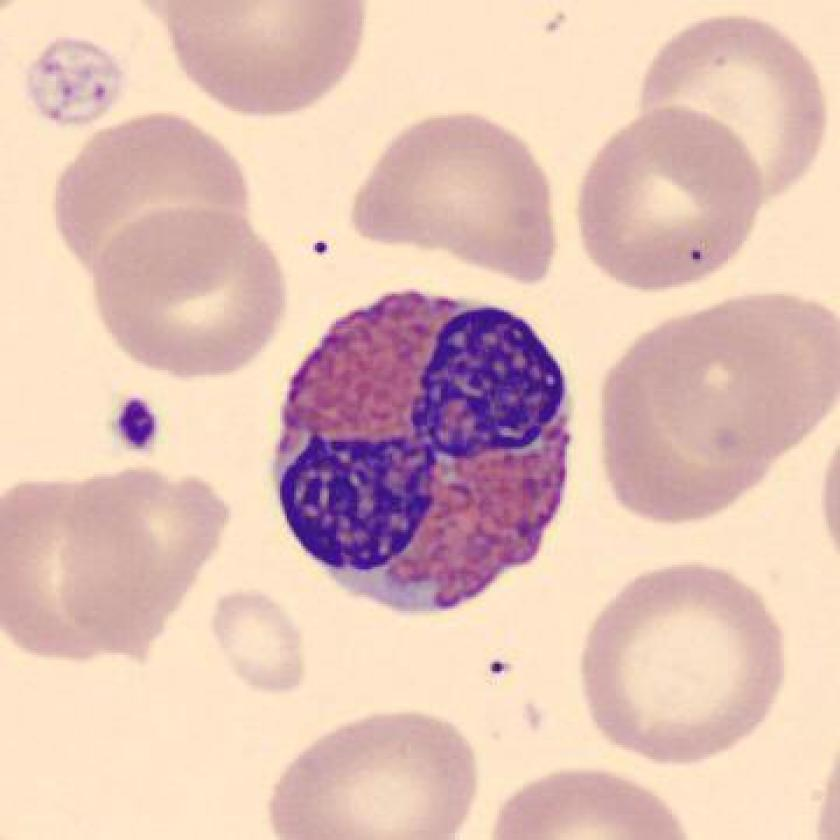eosinophil: (260, 276, 587, 626)
